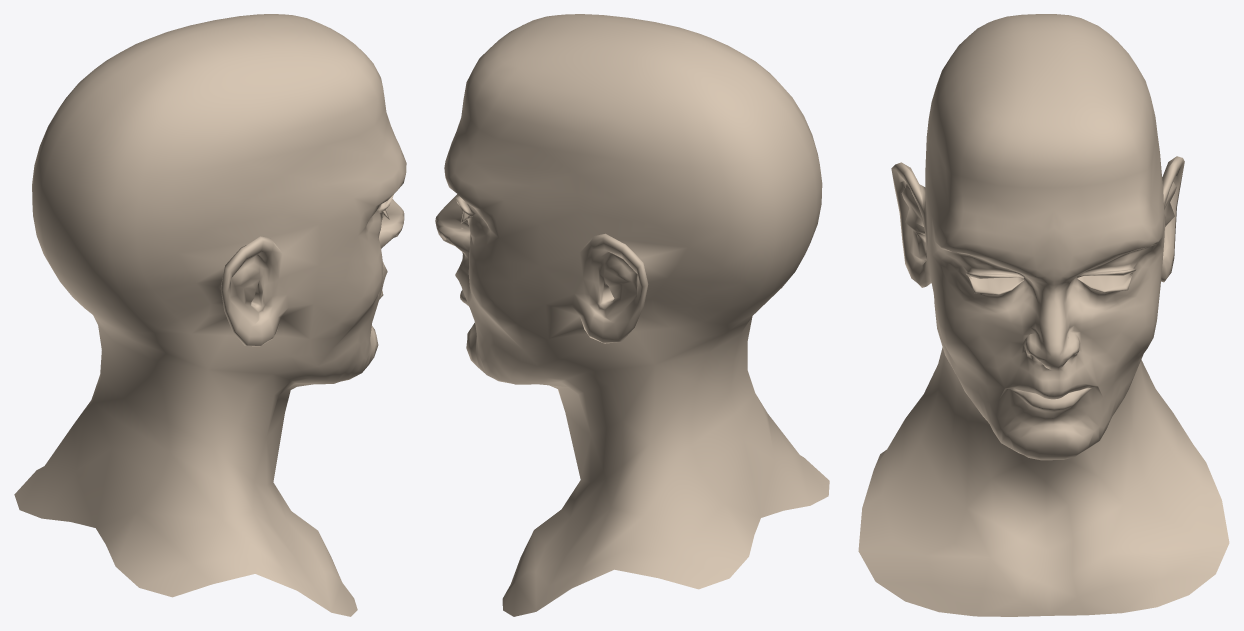
Rendered from head.dae.
3 renders of one model, left to right at view 1: azimuth 30°, elevation 25°; view 2: azimuth 150°, elevation 25°; view 3: azimuth 270°, elevation 25°, orthographic. The views are drawn at different scales.
Parts seen in each view (by area): view 1: Human_001; view 2: Human_001; view 3: Human_001.
Part boxes in pixels (box(x1,y1,x2,y2)): Human_001: box(14, 14, 406, 616); Human_001: box(435, 14, 829, 616); Human_001: box(858, 14, 1229, 616).
Size of the model in its own units: 0.2143 by 0.1956 by 0.3108.
